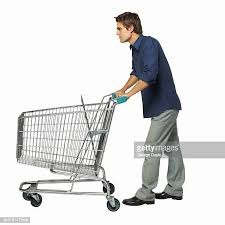with_basket: (16, 98, 123, 210)
without_mask: (115, 10, 140, 44)
